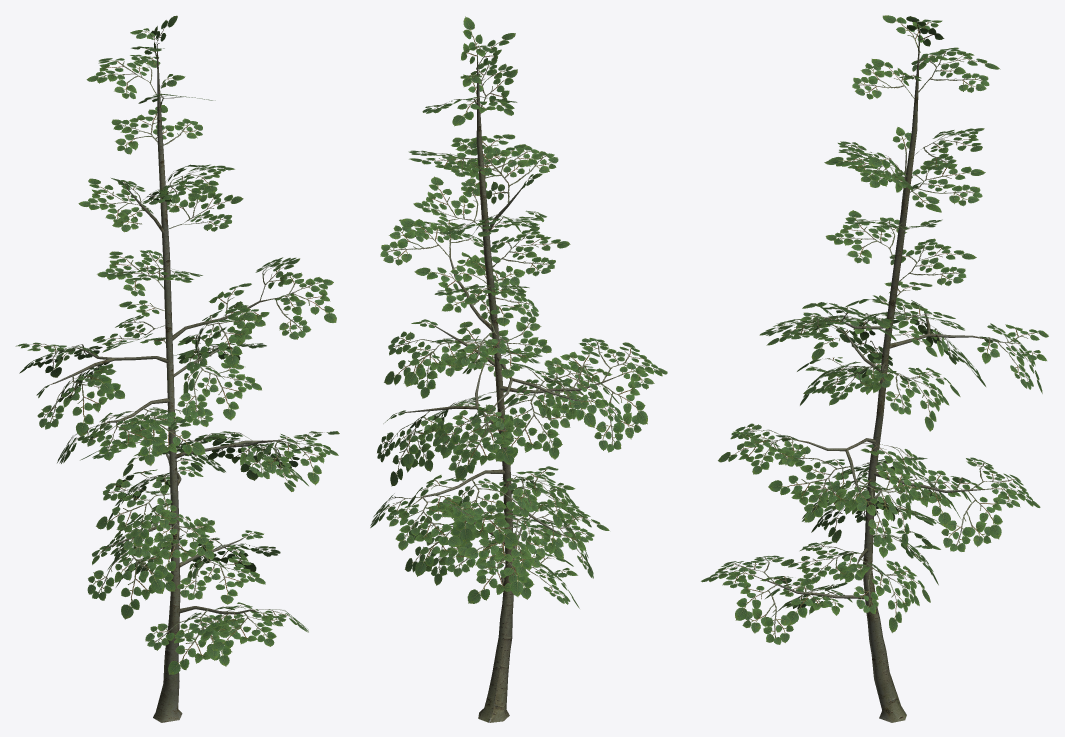
File: aspen_tree_01.glb
3 renders of one model, left to right at view 1: azimuth 30°, elevation 25°; view 2: azimuth 150°, elevation 25°; view 3: azimuth 270°, elevation 25°, orthographic. The views are drawn at different scales.
Visible parts, largest first — view 1: aspen_tree_01; view 2: aspen_tree_01; view 3: aspen_tree_01.
Part boxes in pixels (box(x1,y1,x2,y2)): aspen_tree_01: box(15, 15, 339, 722); aspen_tree_01: box(370, 16, 667, 722); aspen_tree_01: box(701, 15, 1048, 722).
Bounding box in the file's own units: 3.91 × 9.95 × 4.47.
1 material, 1 textured.
